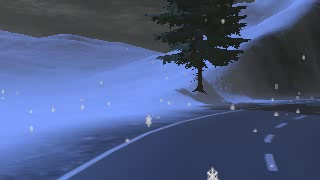Lane: (62, 99, 319, 179)
